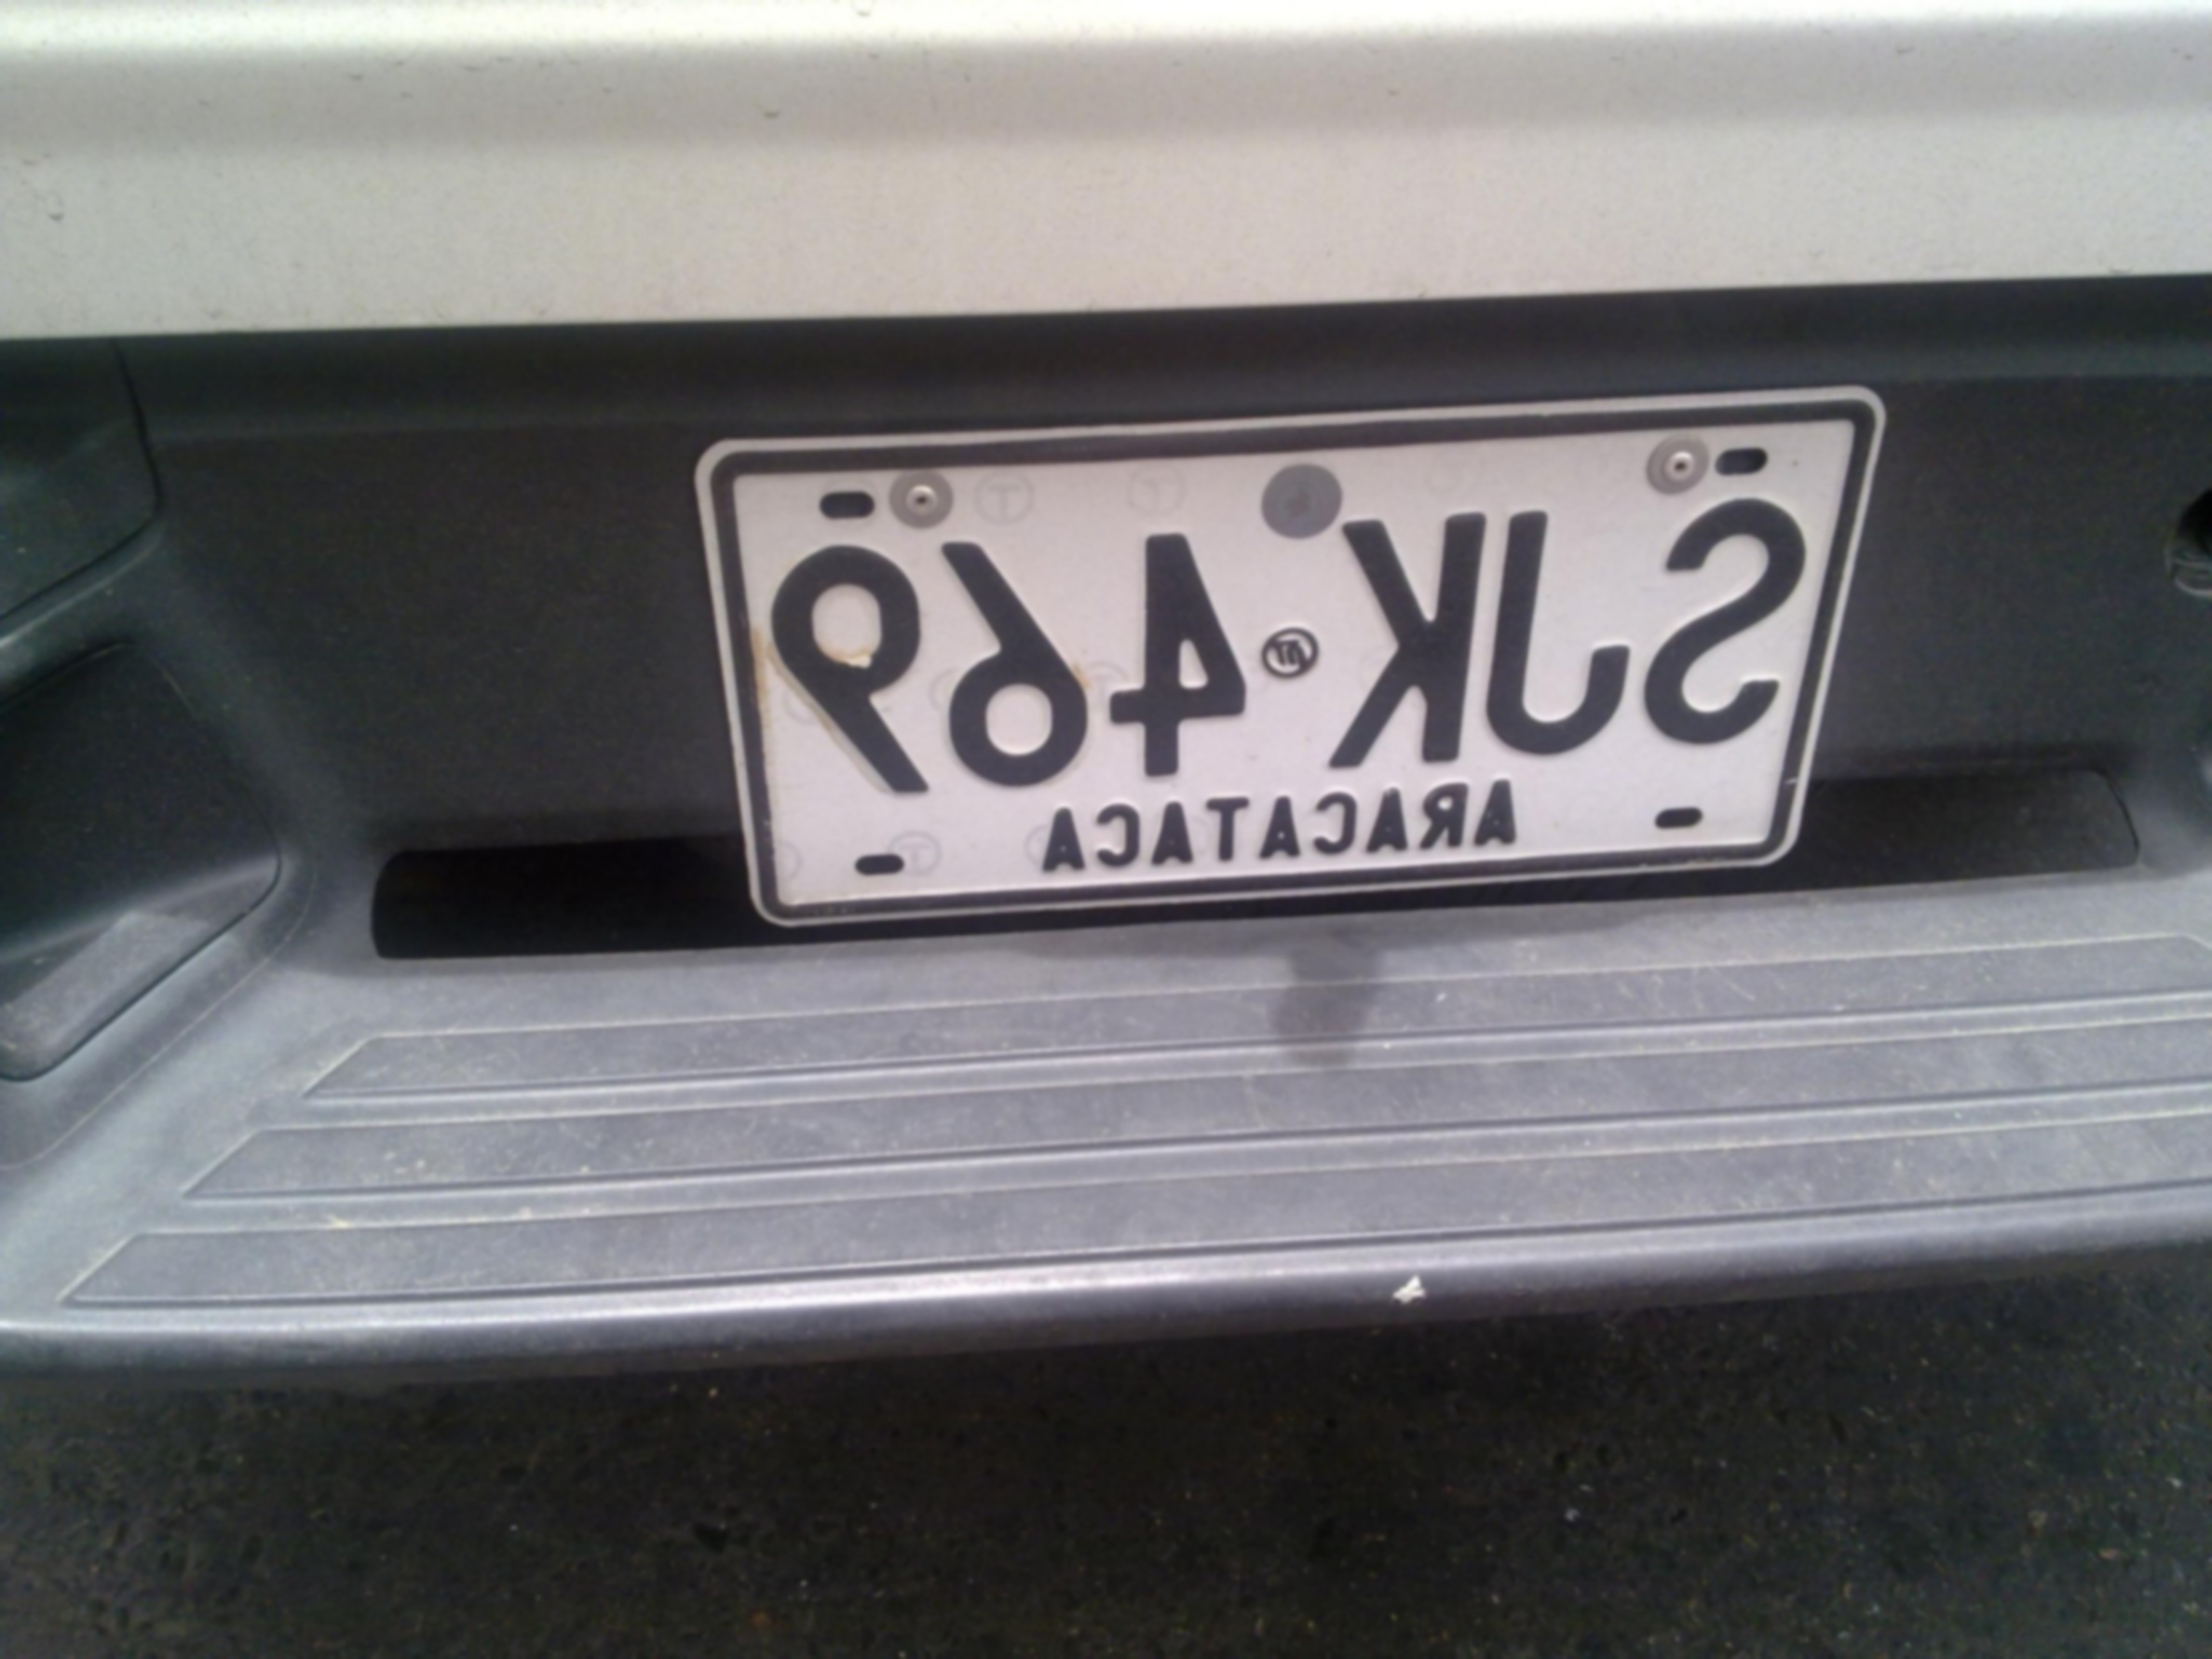placas: (687, 365, 1892, 931)
